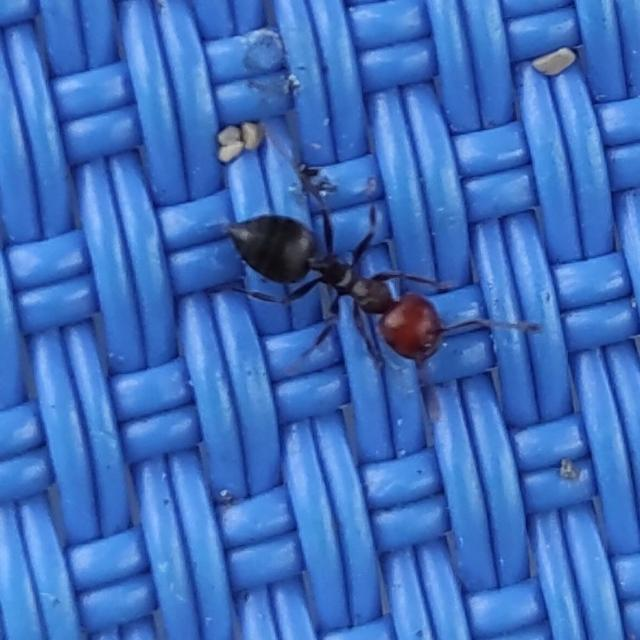Crematogaster: (214, 192, 458, 368)
